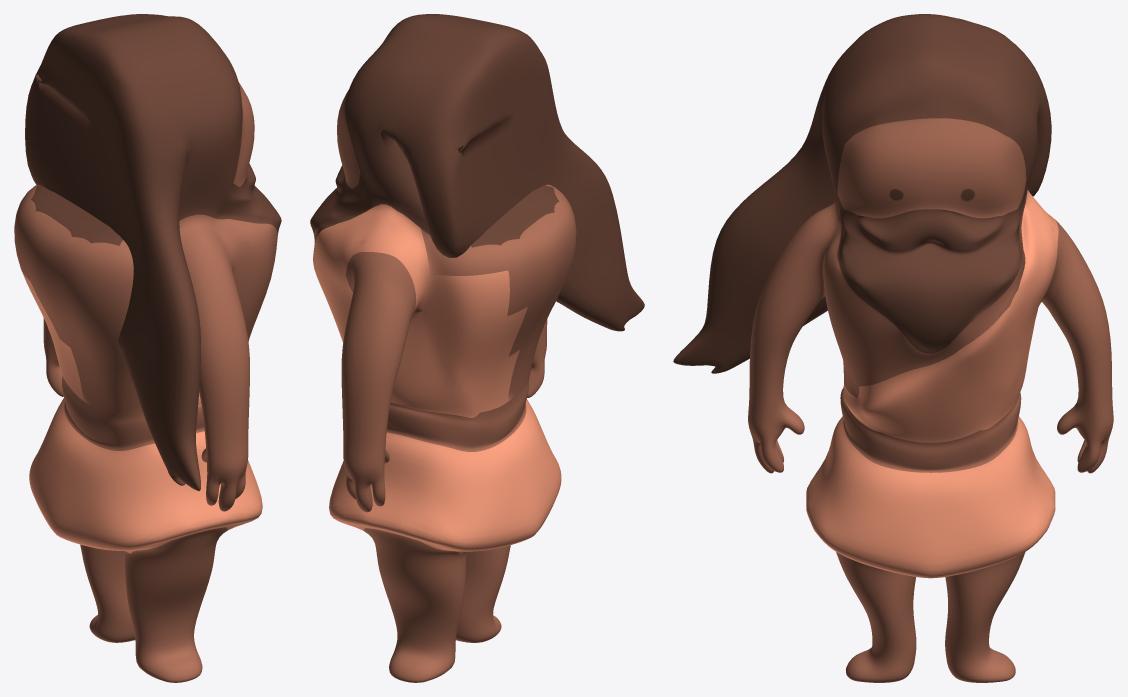
The model's file is Enkidu_v4_smooth.fbx.
3 views of the same model, side by side, from view 1: azimuth 30°, elevation 25°; view 2: azimuth 150°, elevation 25°; view 3: azimuth 270°, elevation 25° (orthographic).
Parts seen in each view (by area): view 1: Cube; view 2: Cube; view 3: Cube.
Part boxes in pixels (box(x1,y1,x2,y2)): Cube: box(14, 14, 281, 682); Cube: box(310, 14, 644, 682); Cube: box(673, 14, 1113, 682).
Bounding box in the file's own units: 226 × 606 × 379.
